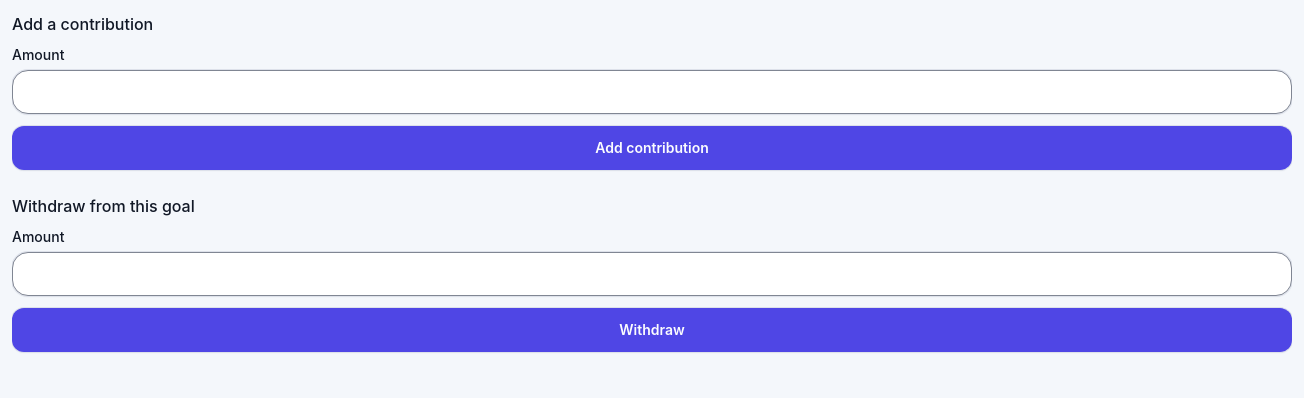
Test: GoalEntryActions › shows a field error and sends nothing for "0" (AC-21)
In the field labelled "Amount" below "Add a contribution": (652, 92) [12,70,1292,114], type "0"
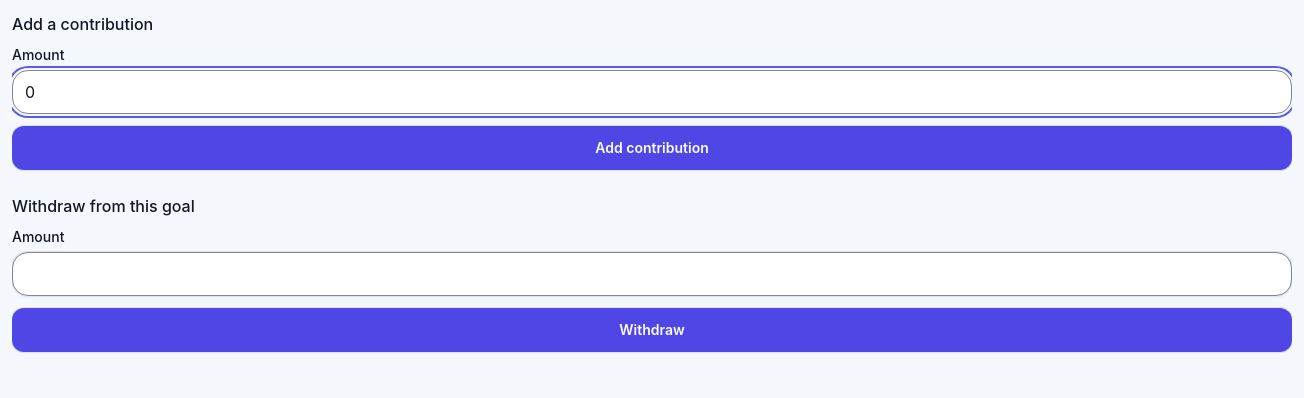
Click the button "Add contribution": click(652, 148) [12,126,1292,170]
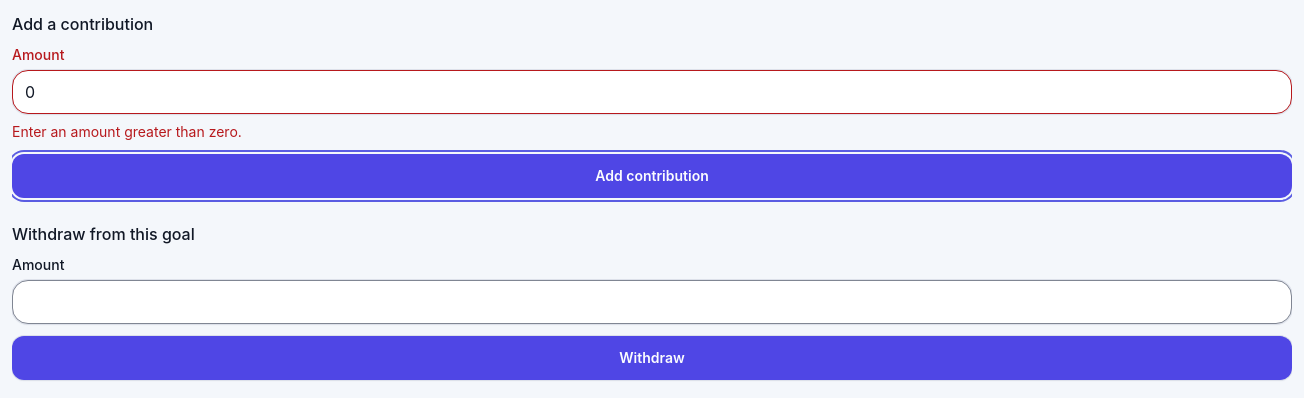
Expected: the text "Enter an amount greater than zero." is shown, [12,123,242,140]
